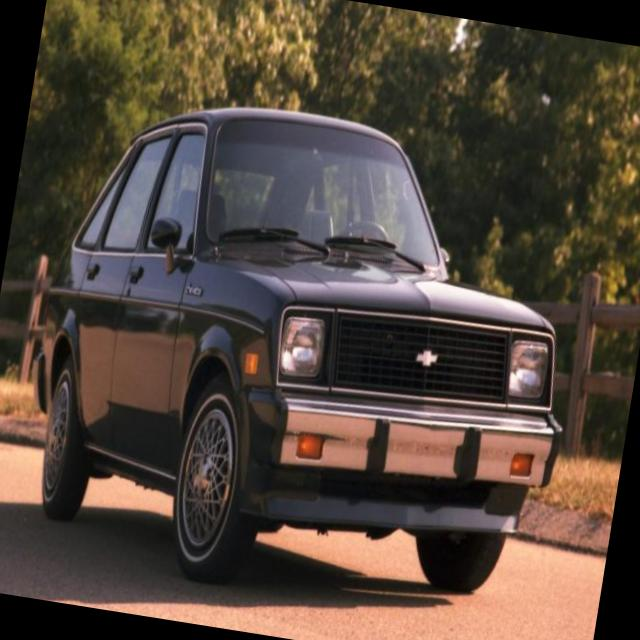car: (2, 76, 603, 636)
